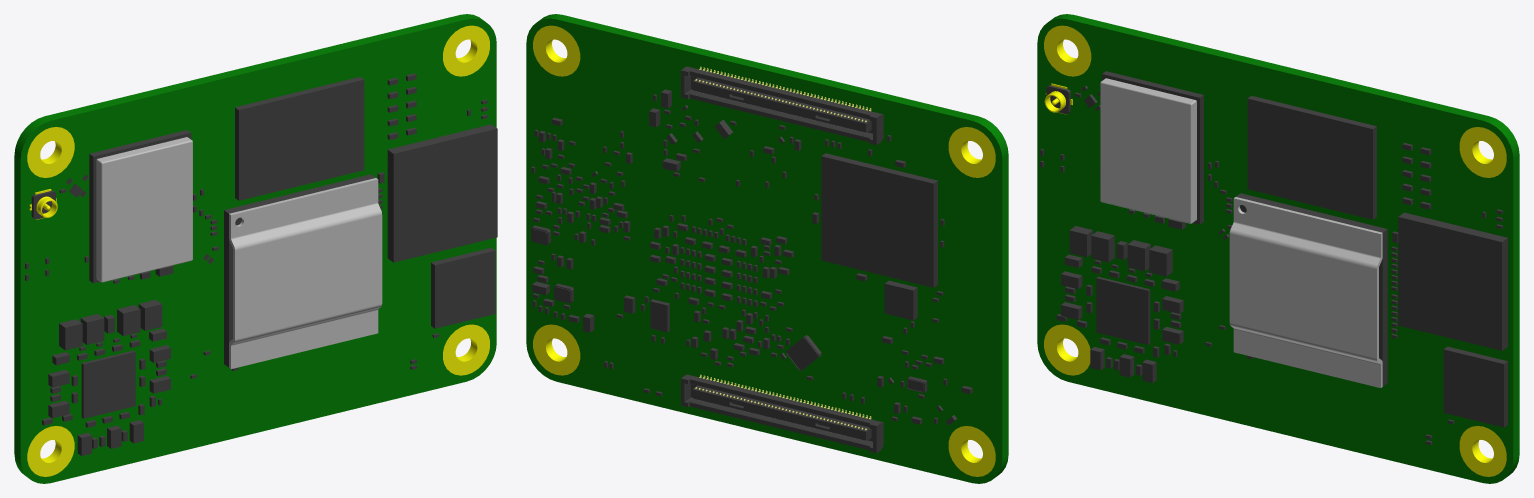
Rendered from Raspberry_Pi_CM5104032_Compute_Module_CM5_4GB_RAM_32GB_eMMC_Wireless.3dmodel.glb.
The picture shows the model from 3 angles, left to right: view 1: azimuth 30°, elevation 25°; view 2: azimuth 150°, elevation 25°; view 3: azimuth 330°, elevation 25°; orthographic projection.
Parts seen in each view (by area): view 1: =>[0:1:1:1]; view 2: =>[0:1:1:1]; view 3: =>[0:1:1:1].
Boxes of the visible parts, box(x1,y1,x2,y2) form: =>[0:1:1:1]: box(14, 14, 497, 483); =>[0:1:1:1]: box(526, 14, 1008, 483); =>[0:1:1:1]: box(1037, 14, 1519, 483).
Bounding box in the file's own units: 55 × 40 × 4.89.
